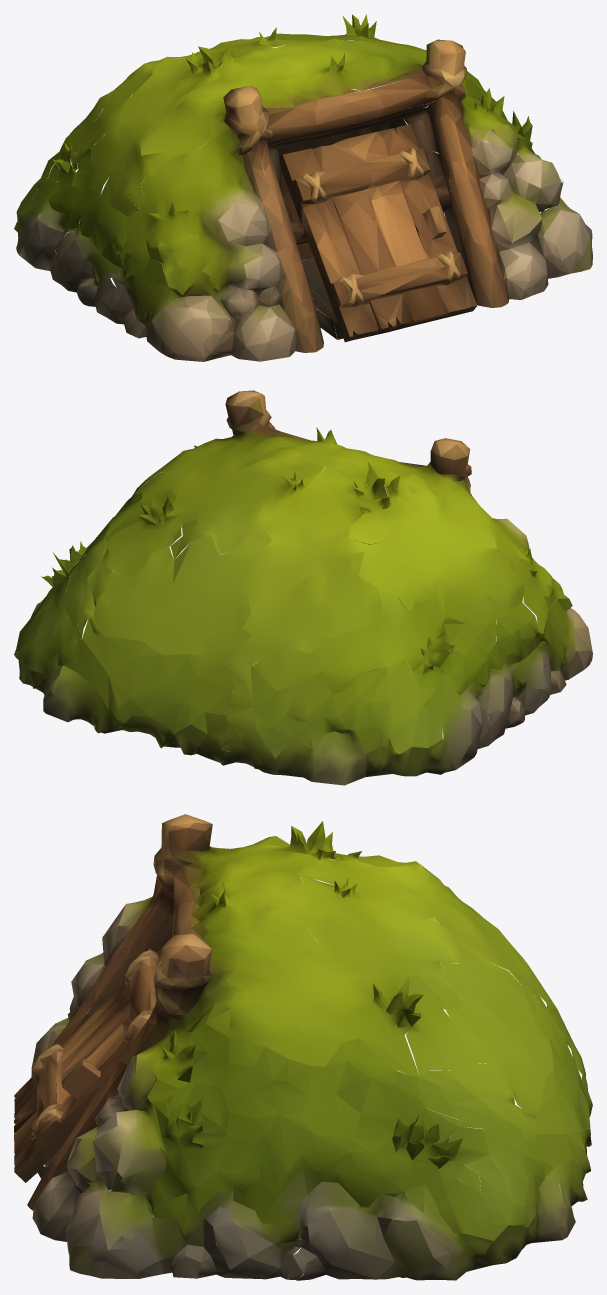
The model's file is building-coolStore.glb.
3 views of the same model, one above another, from view 1: azimuth 30°, elevation 25°; view 2: azimuth 150°, elevation 25°; view 3: azimuth 270°, elevation 25° (orthographic). The views are drawn at different scales.
Visible parts, largest first — view 1: 0_coolStore; view 2: 0_coolStore; view 3: 0_coolStore.
Boxes of the visible parts, x1,y1,x2,y2 form: 0_coolStore: [14, 14, 592, 361]; 0_coolStore: [14, 390, 592, 785]; 0_coolStore: [14, 814, 592, 1280].
Bounding box in the file's own units: 1.92 × 0.9237 × 1.75.
